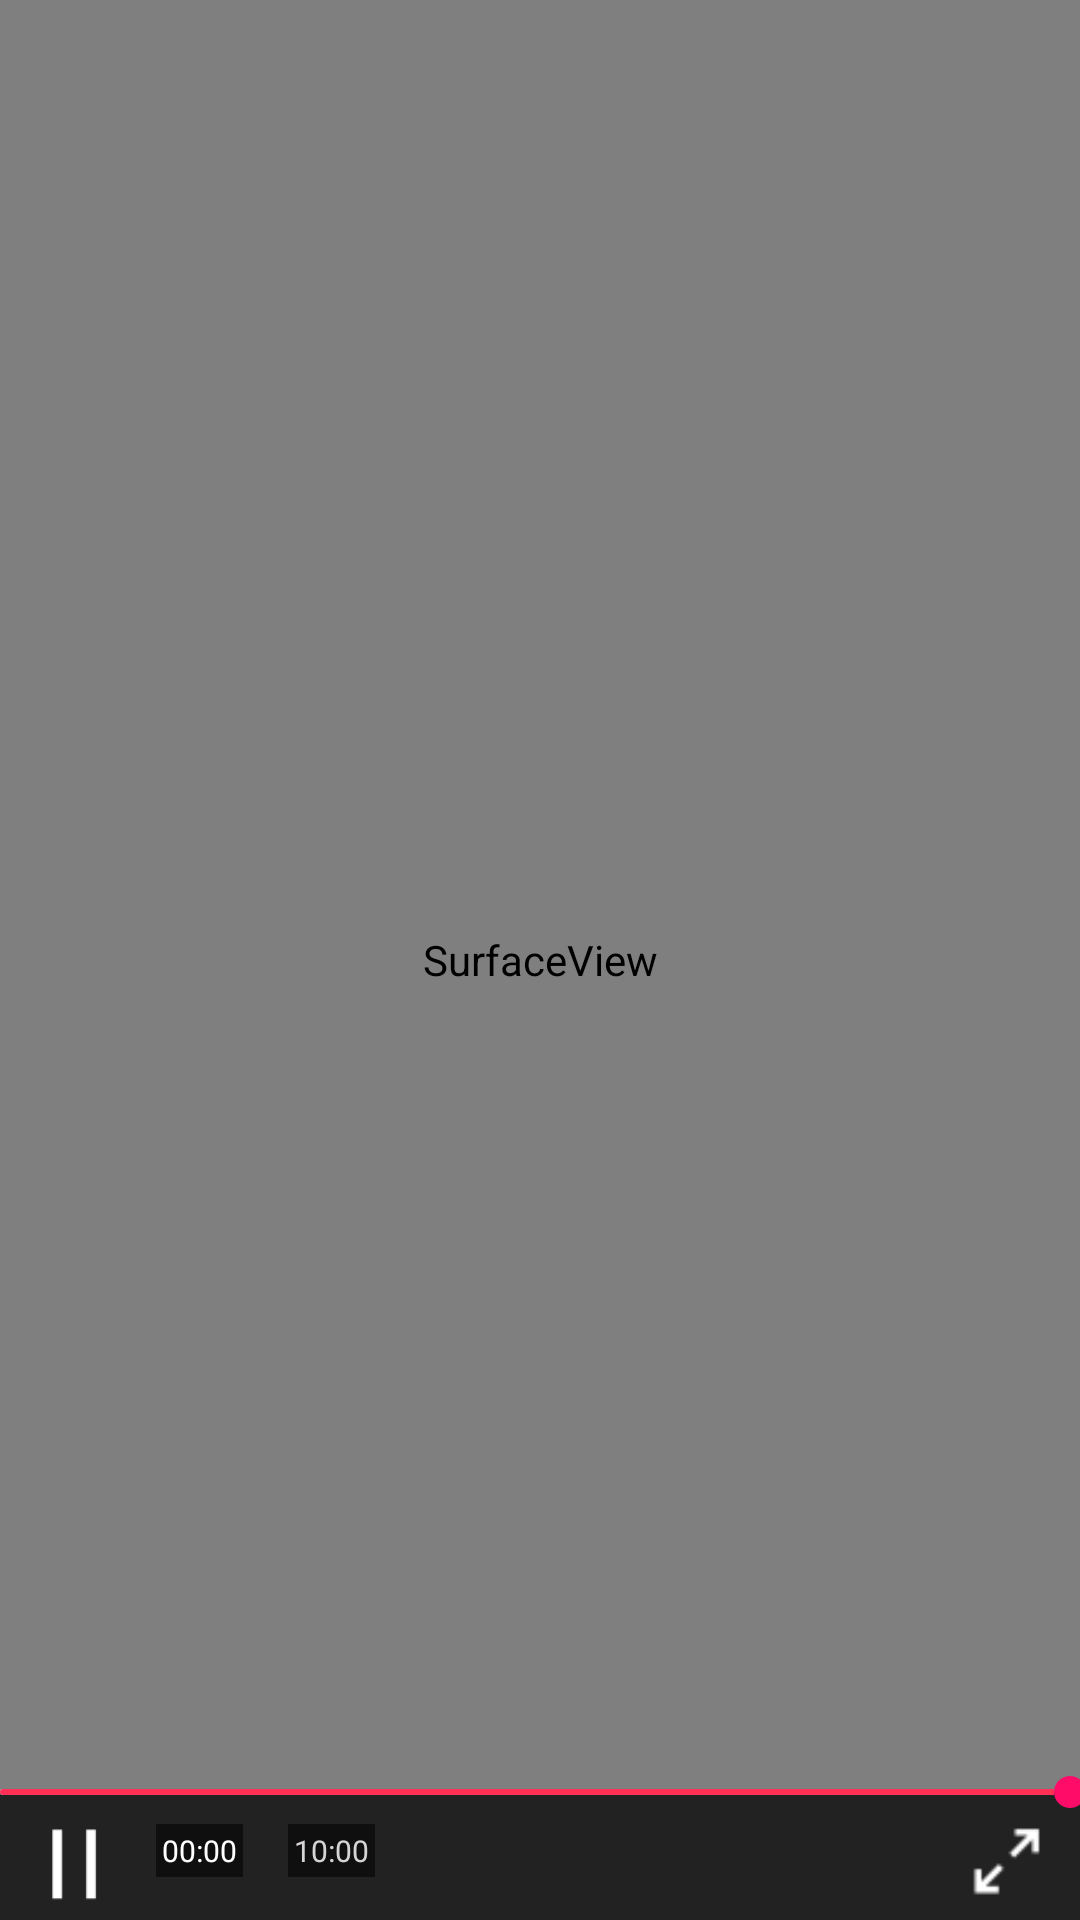

Named icons in this screenshot (1080 x 1920) and their centers, [x,y]:
video full screen: [1006,1861]
video pause: [74,1864]
